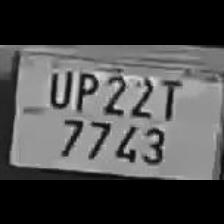2: (99, 66, 127, 114), (125, 70, 154, 116)
3: (138, 122, 167, 164)
4: (109, 118, 137, 162)
7: (54, 112, 84, 158), (83, 113, 109, 158)
P: (70, 64, 98, 110)
T: (156, 74, 182, 118)
U: (44, 64, 74, 108)
